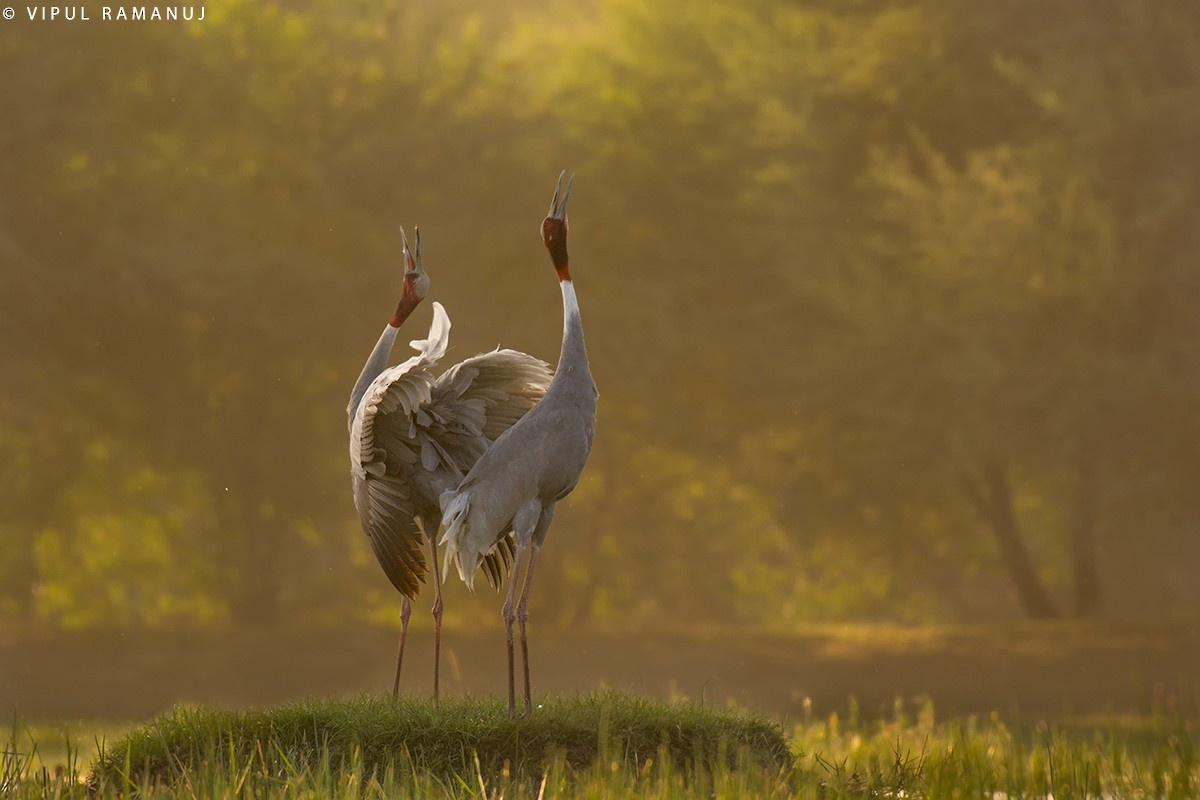crane: (455, 158, 589, 722), (336, 221, 483, 715)
